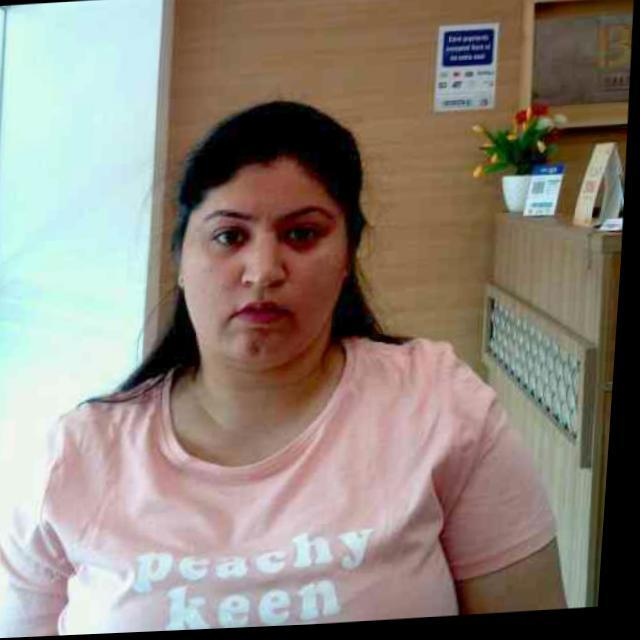Puffy Eyes - v3 Dark Circle: (284, 243, 318, 258)
